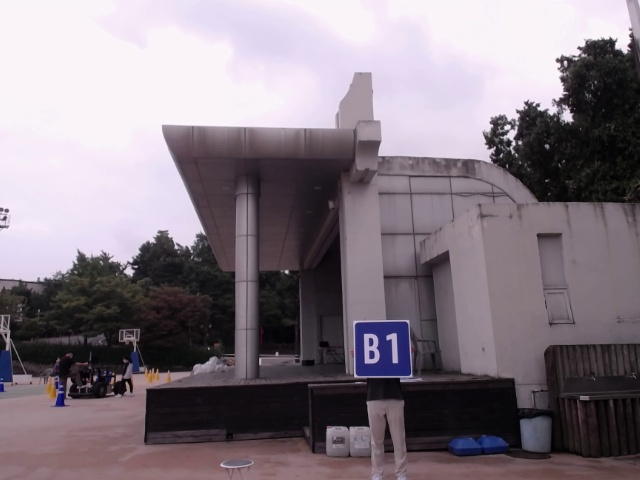delivery_b1: (353, 320, 412, 378)
